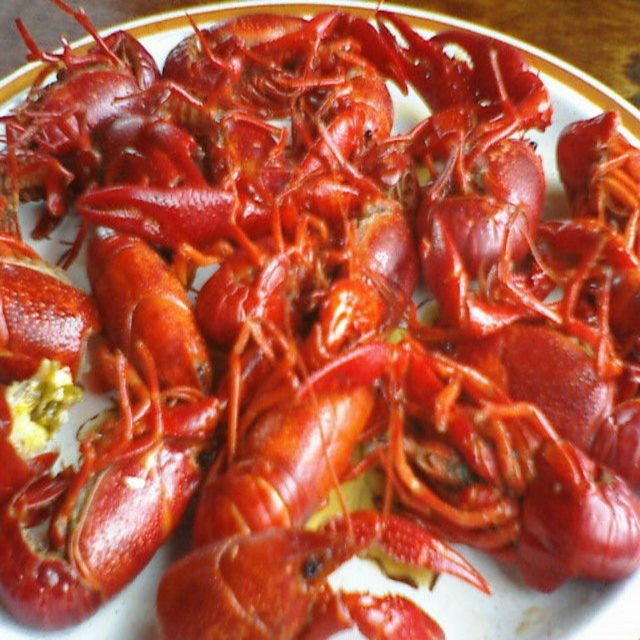Shrimp: (1, 0, 640, 640)
